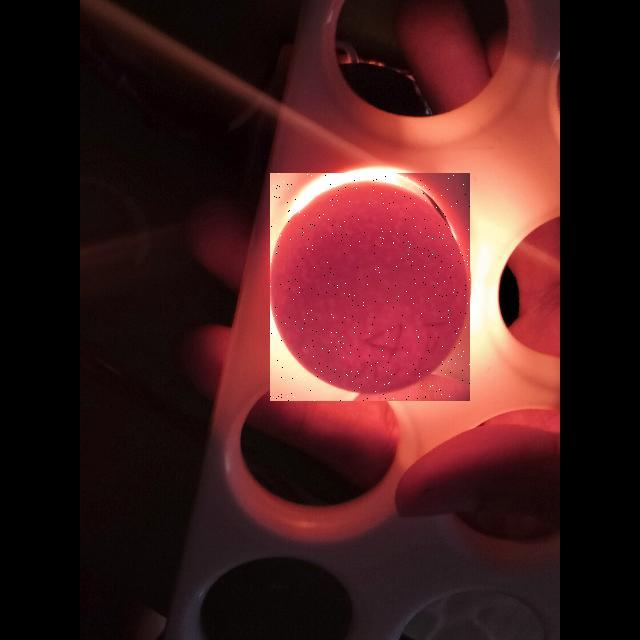Infertile: (270, 173, 470, 401)
